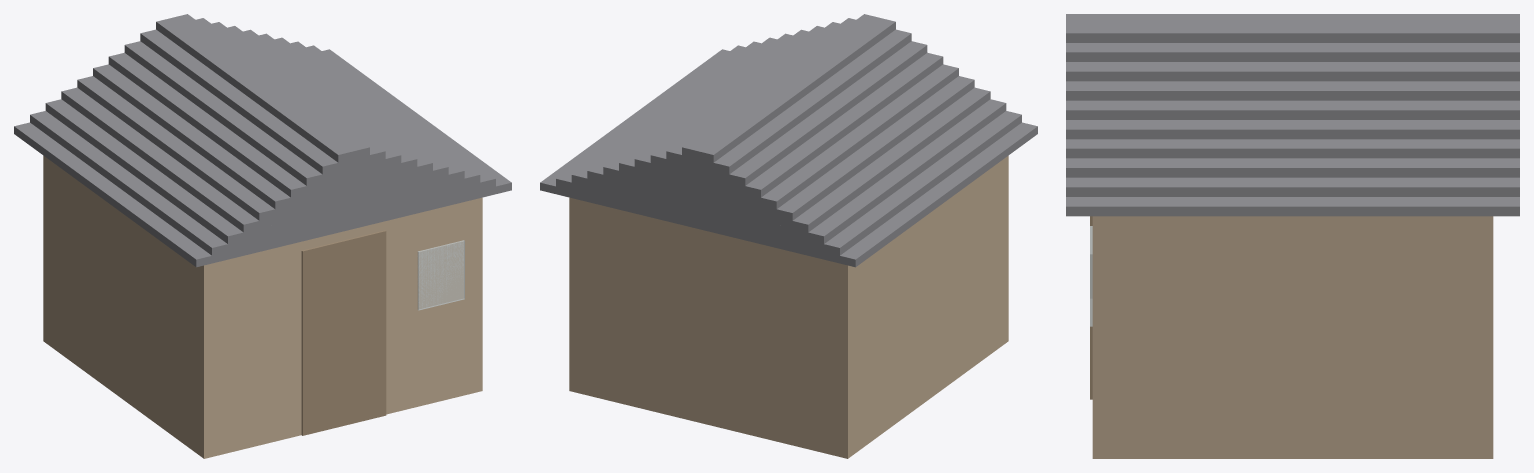
Rendered from gartenhaus.glb.
The picture shows the model from 3 angles, left to right: view 1: azimuth 30°, elevation 25°; view 2: azimuth 150°, elevation 25°; view 3: azimuth 270°, elevation 25°; orthographic projection. The views are drawn at different scales.
Size of the model in its own units: 3.4 by 2.9 by 3.4.
